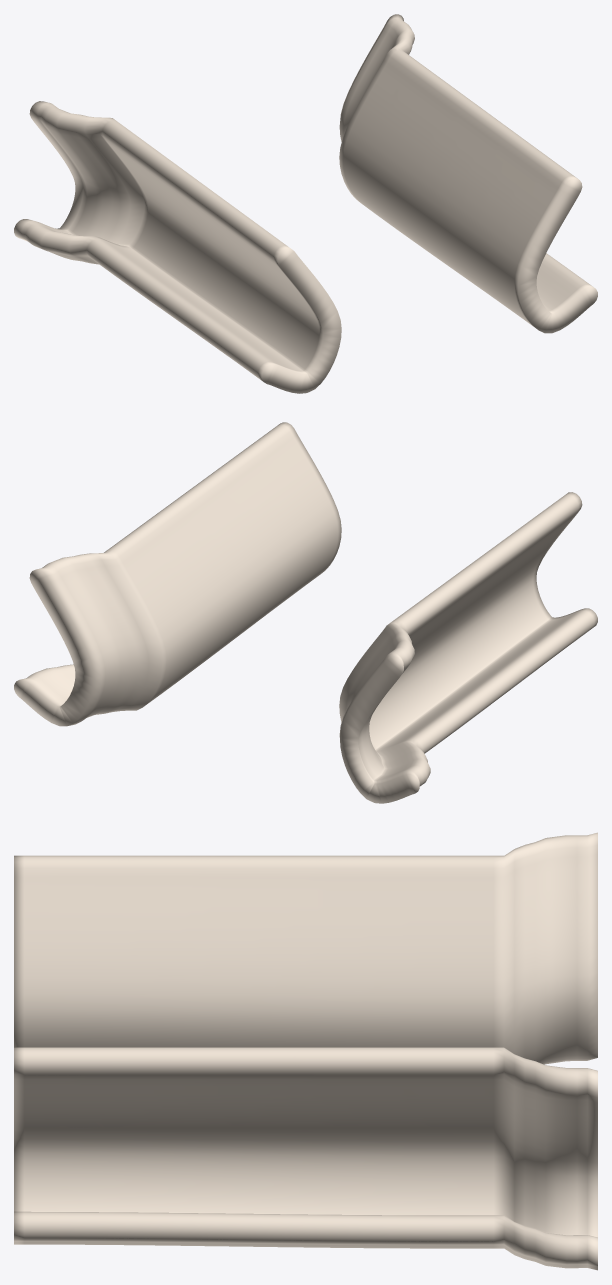
Rendered from superior_concha_s120.glb.
The picture shows the model from 3 angles, top to bottom: view 1: azimuth 30°, elevation 25°; view 2: azimuth 150°, elevation 25°; view 3: azimuth 270°, elevation 25°; orthographic projection. The views are drawn at different scales.
Visible parts, largest first — view 1: Superior nasal concha.r, Superior nasal concha.l; view 2: Superior nasal concha.l, Superior nasal concha.r; view 3: Superior nasal concha.l, Superior nasal concha.r.
Part boxes in pixels (x1=…): Superior nasal concha.r: x1=14, y1=101, x2=341, y2=393; Superior nasal concha.l: x1=339, y1=14, x2=597, y2=333; Superior nasal concha.l: x1=14, y1=422, x2=341, y2=726; Superior nasal concha.r: x1=339, y1=492, x2=597, y2=803; Superior nasal concha.l: x1=14, y1=1047, x2=597, y2=1270; Superior nasal concha.r: x1=14, y1=832, x2=597, y2=1064.
Size of the model in its own units: 0.0099 by 0.00355 by 0.009.
